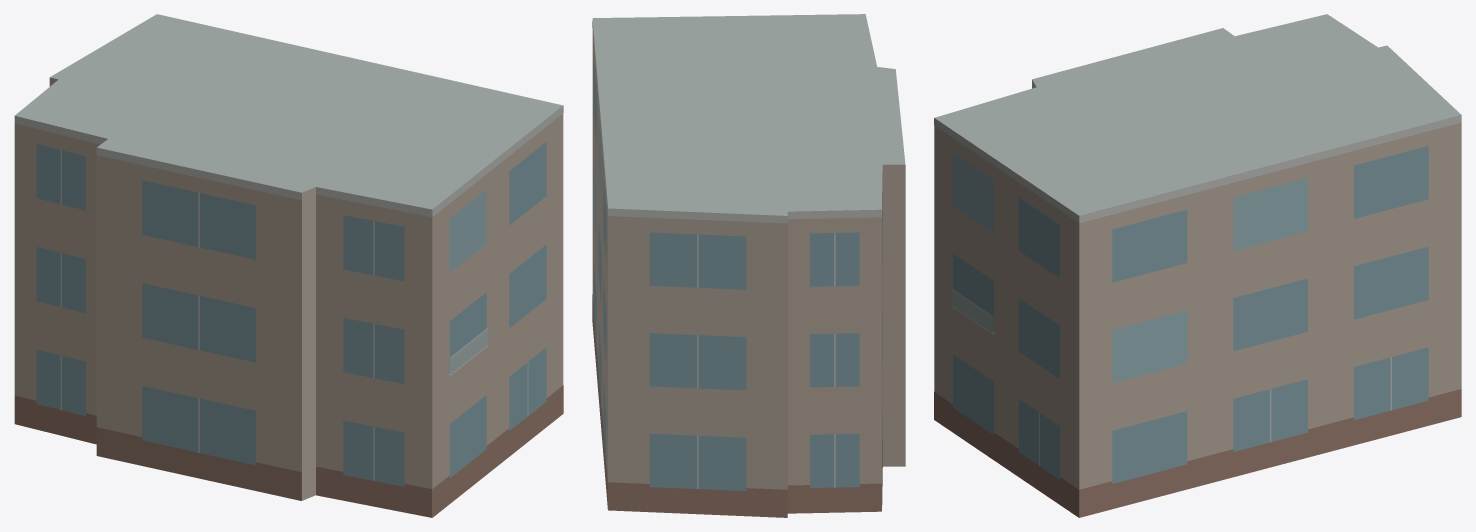
The model's file is survey-upis-32892754.glb.
The picture shows the model from 3 angles, left to right: view 1: azimuth 30°, elevation 25°; view 2: azimuth 150°, elevation 25°; view 3: azimuth 270°, elevation 25°; orthographic projection. The views are drawn at different scales.
Parts seen in each view (by area): view 1: survey-upis-32892754.tmp; view 2: survey-upis-32892754.tmp; view 3: survey-upis-32892754.tmp.
Boxes of the visible parts, left/top/right/bottom form: survey-upis-32892754.tmp: left=14, top=14, right=563, bottom=517; survey-upis-32892754.tmp: left=592, top=14, right=905, bottom=517; survey-upis-32892754.tmp: left=934, top=14, right=1461, bottom=517.
Size of the model in its own units: 14.05 by 9.8 by 15.52.
